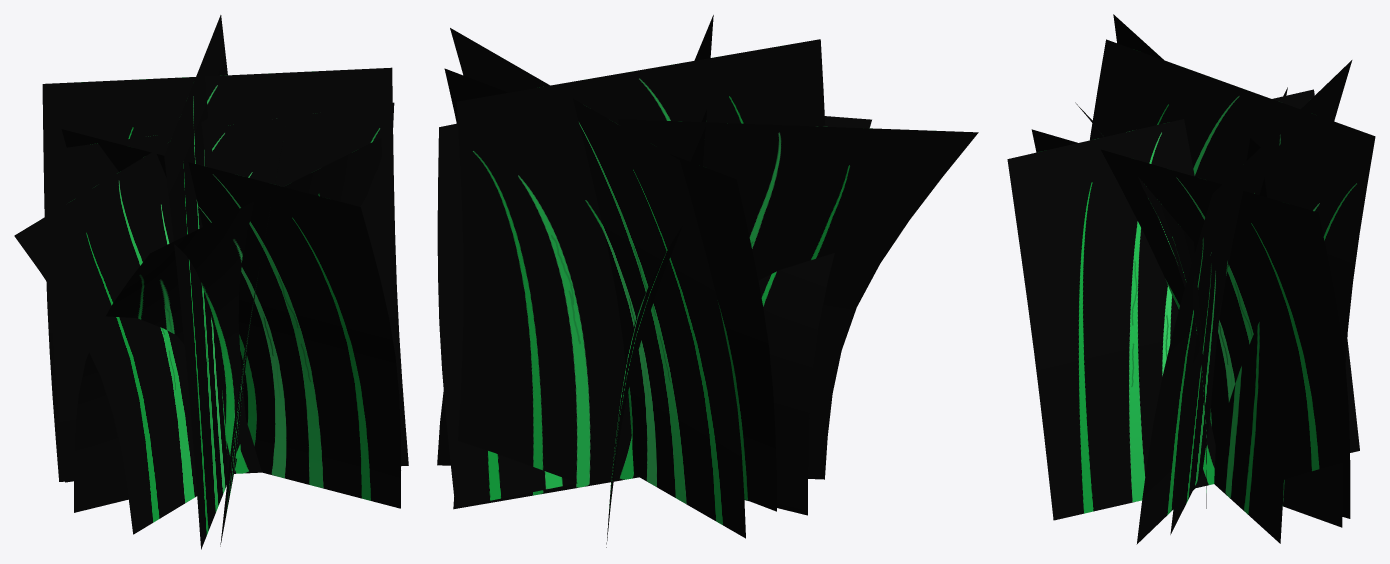
File: grass.obj
The picture shows the model from 3 angles, left to right: view 1: azimuth 30°, elevation 25°; view 2: azimuth 150°, elevation 25°; view 3: azimuth 270°, elevation 25°; orthographic projection. The views are drawn at different scales.
Visible parts, largest first — view 1: pPlane12_Mesh; view 2: pPlane12_Mesh; view 3: pPlane12_Mesh.
Boxes of the visible parts, left/top/right/bottom form: pPlane12_Mesh: left=14, top=15, right=408, bottom=549; pPlane12_Mesh: left=437, top=15, right=978, bottom=547; pPlane12_Mesh: left=1007, top=14, right=1375, bottom=544.
Bounding box in the file's own units: 0.6955 × 0.5999 × 0.5191.
1 material, 1 textured.
